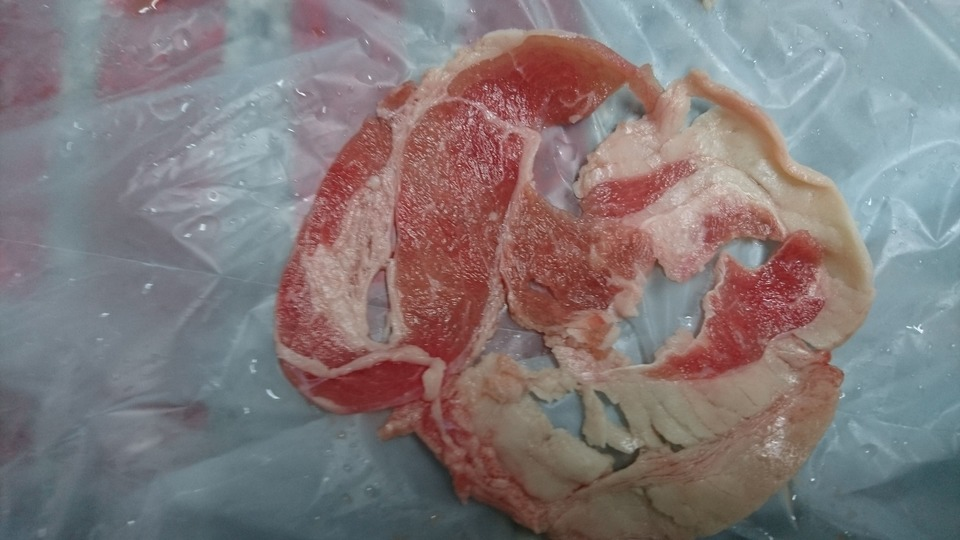restructured meat: (273, 27, 844, 540)
